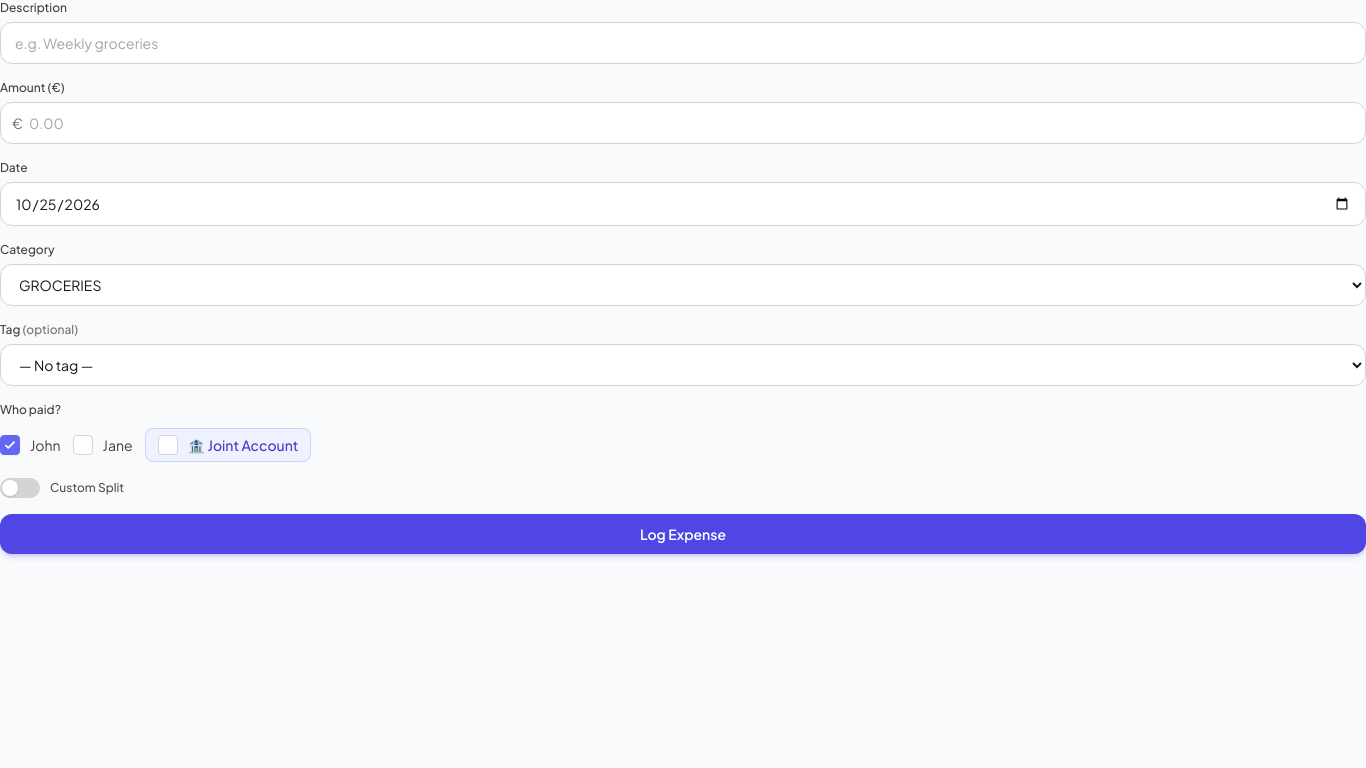
ExpenseForm.svelte — Expense Creation Form › prompts user when a matching expense with same category and amount already exists, allowing cancellation
This screenshot has width=1366, height=768.
Type "New Supermarket Bill" into the field with placeholder "e.g. Weekly groceries" at (683, 43), box [0, 22, 1365, 64]
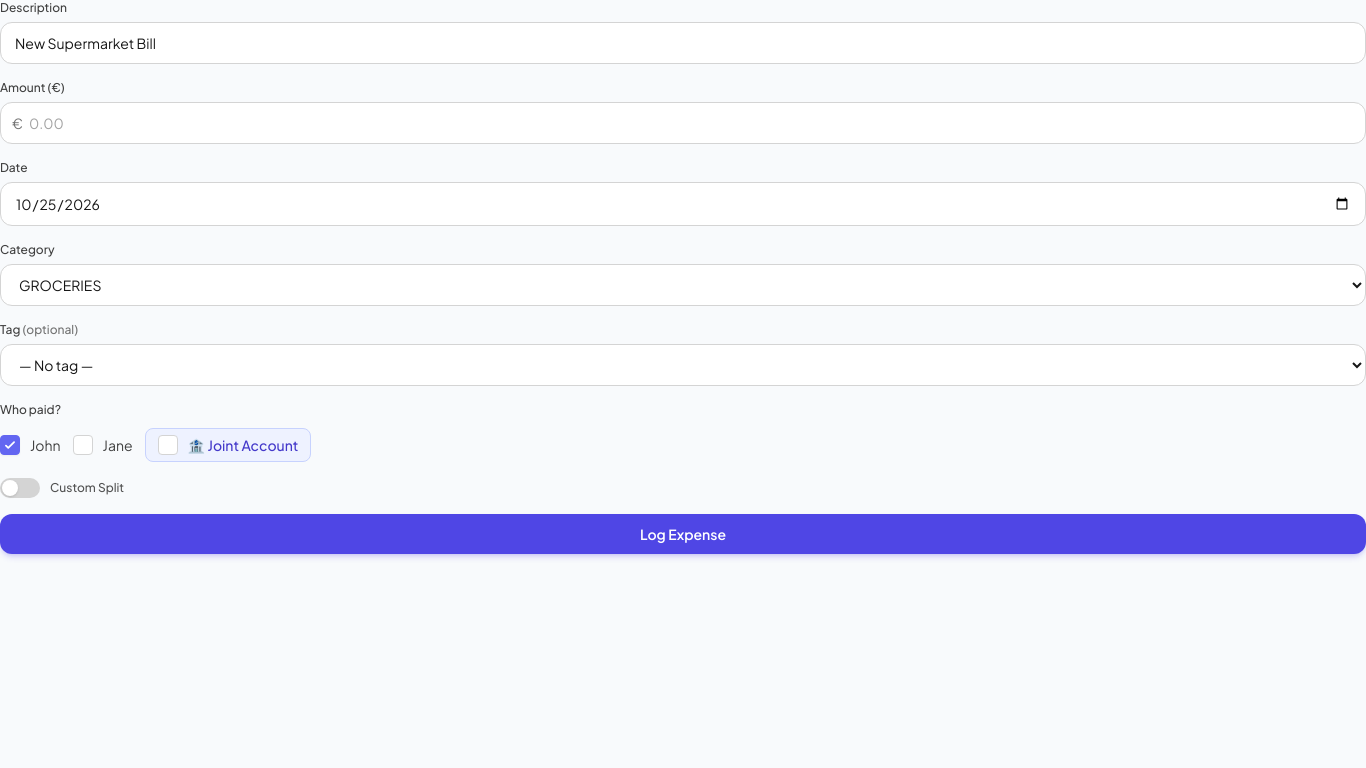
Type "45.00" into the number field with placeholder "0.00" at (683, 123), box [0, 102, 1365, 144]
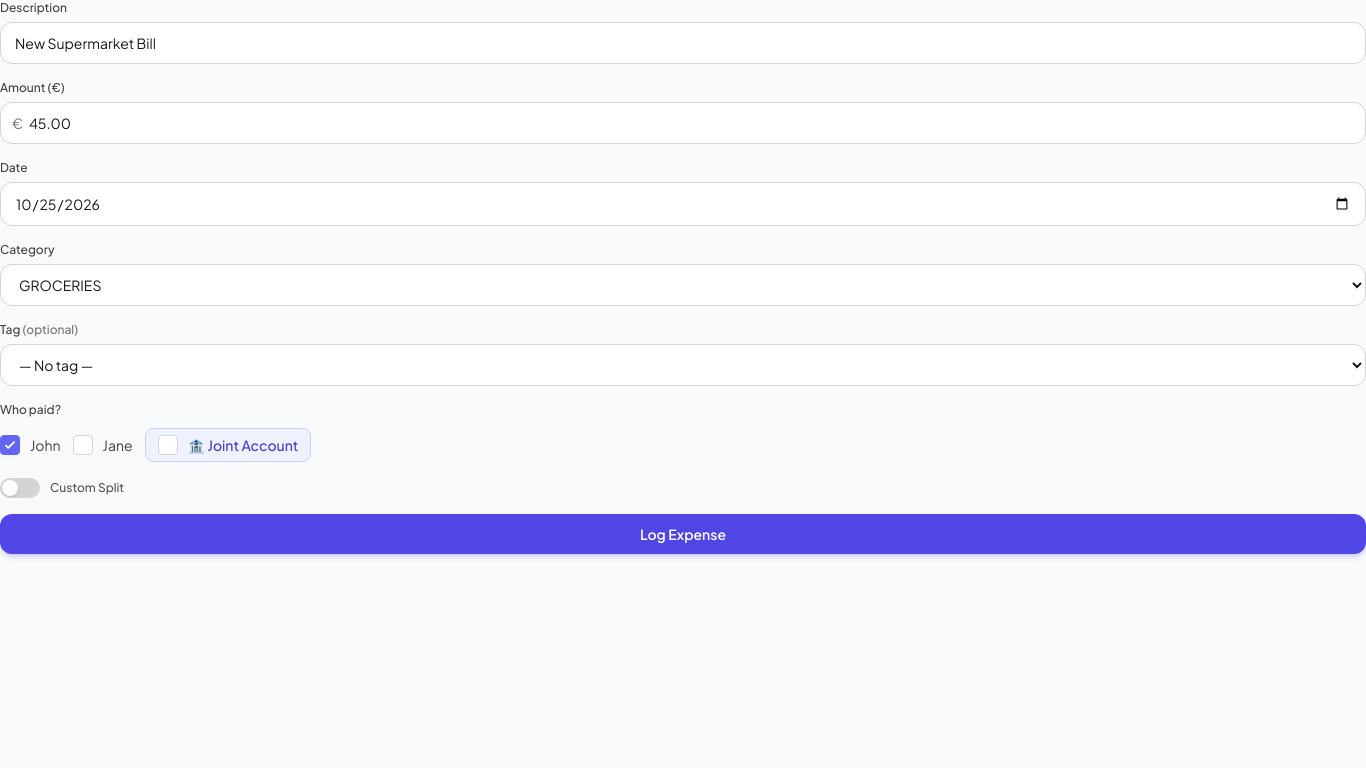
Click the button "Log Expense" at (683, 534), box [0, 514, 1365, 554]
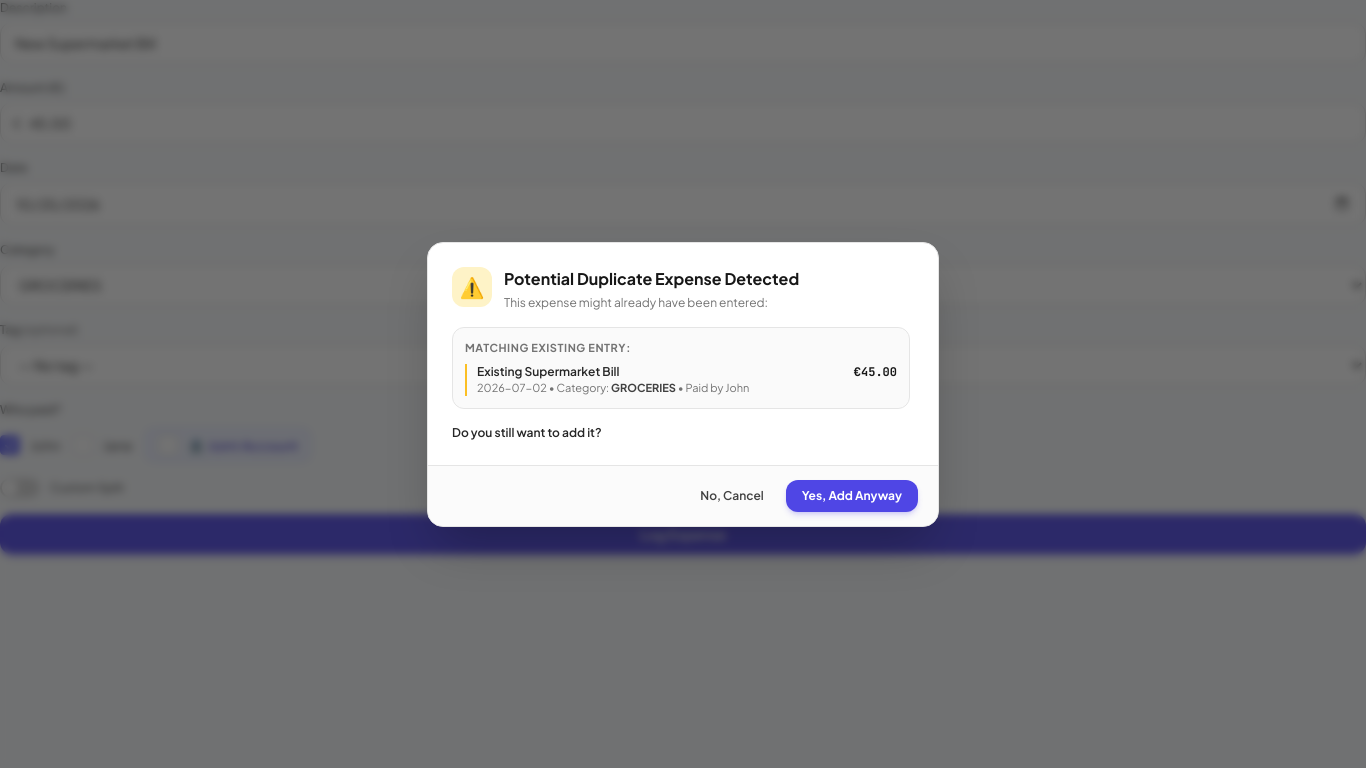
Result: the heading "Potential Duplicate Expense Detected" is shown at [504, 266, 799, 290]
Result: the text "This expense might already have been entered:" is shown at [504, 294, 799, 310]
Result: the text "Existing Supermarket Bill" is shown at [477, 364, 620, 378]
// Click "No, Cancel"
Click the button "No, Cancel" at (732, 496), box [686, 480, 778, 512]
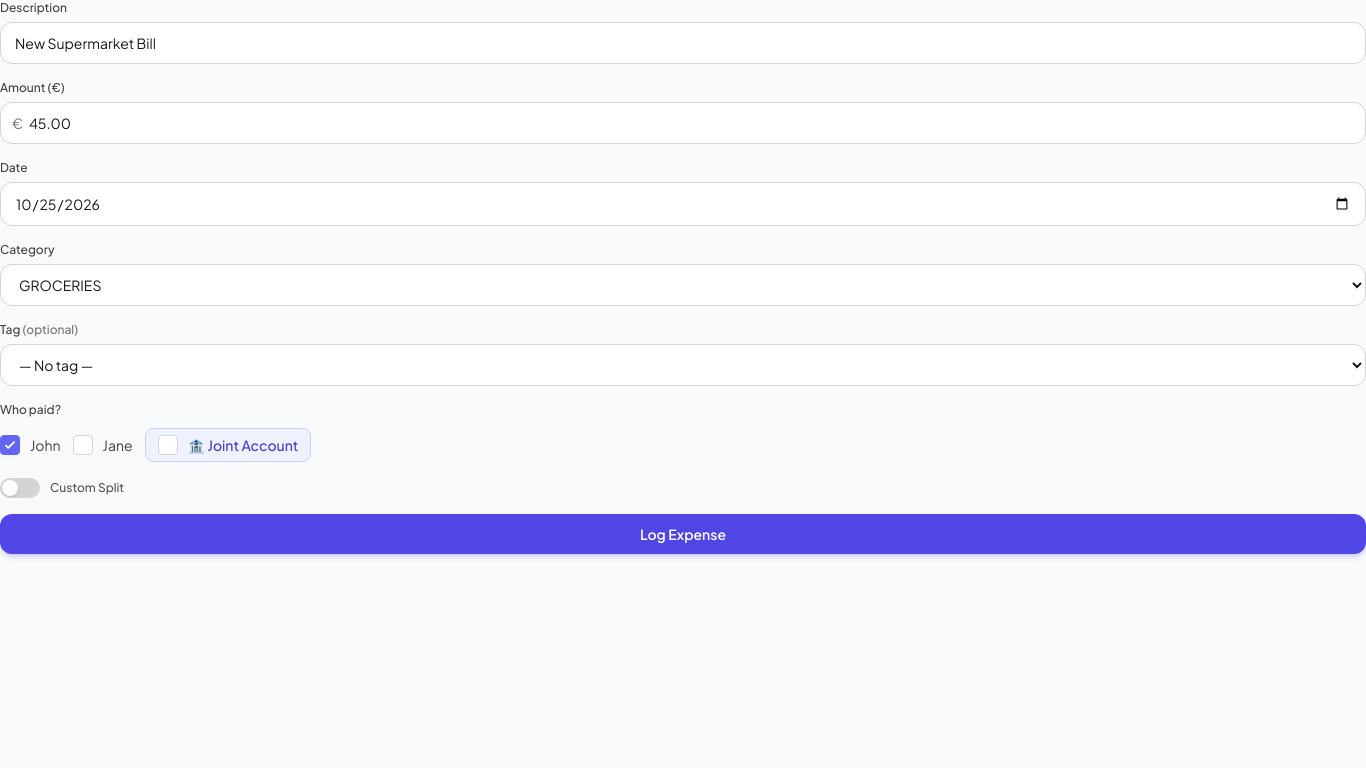
Result: the heading "Potential Duplicate Expense Detected" is gone
